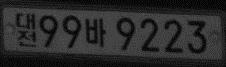2: (140, 17, 160, 52), (163, 19, 183, 53)
3: (186, 19, 207, 53)
9: (115, 16, 137, 50), (61, 14, 81, 47), (39, 15, 58, 48)
대전_V: (14, 12, 37, 47)
바: (85, 18, 106, 48)
